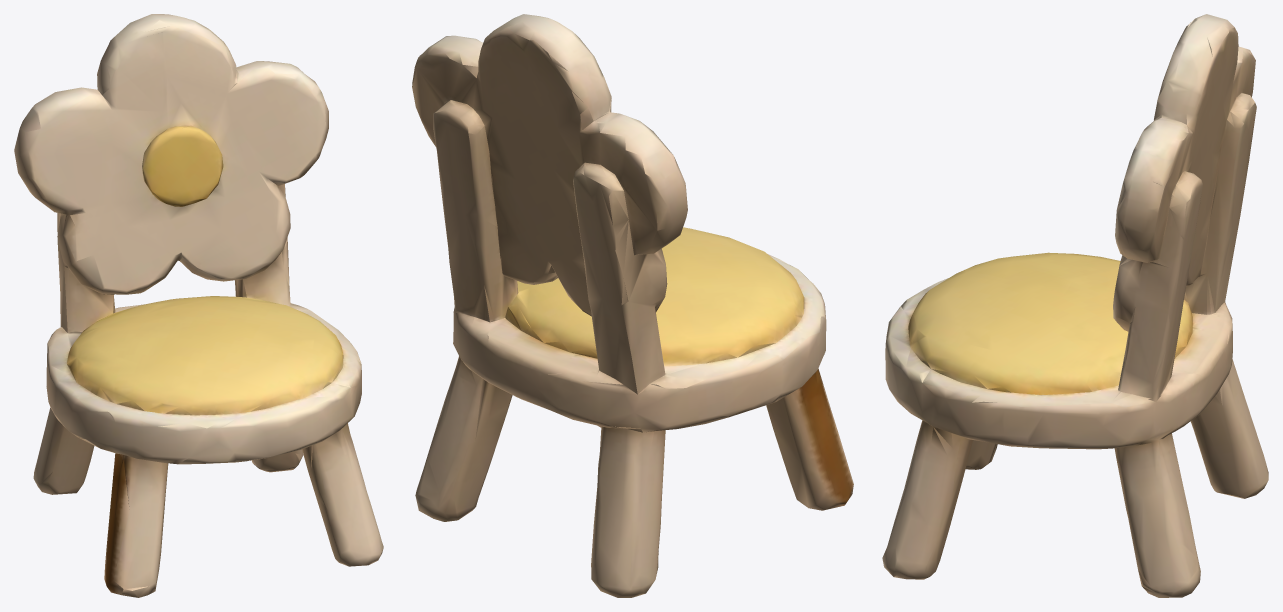
The model's file is chair08.glb.
3 views of the same model, side by side, from view 1: azimuth 30°, elevation 25°; view 2: azimuth 150°, elevation 25°; view 3: azimuth 270°, elevation 25° (orthographic). The views are drawn at different scales.
Size of the model in its own units: 0.1741 by 0.2591 by 0.1764.
1 material, 1 textured.
